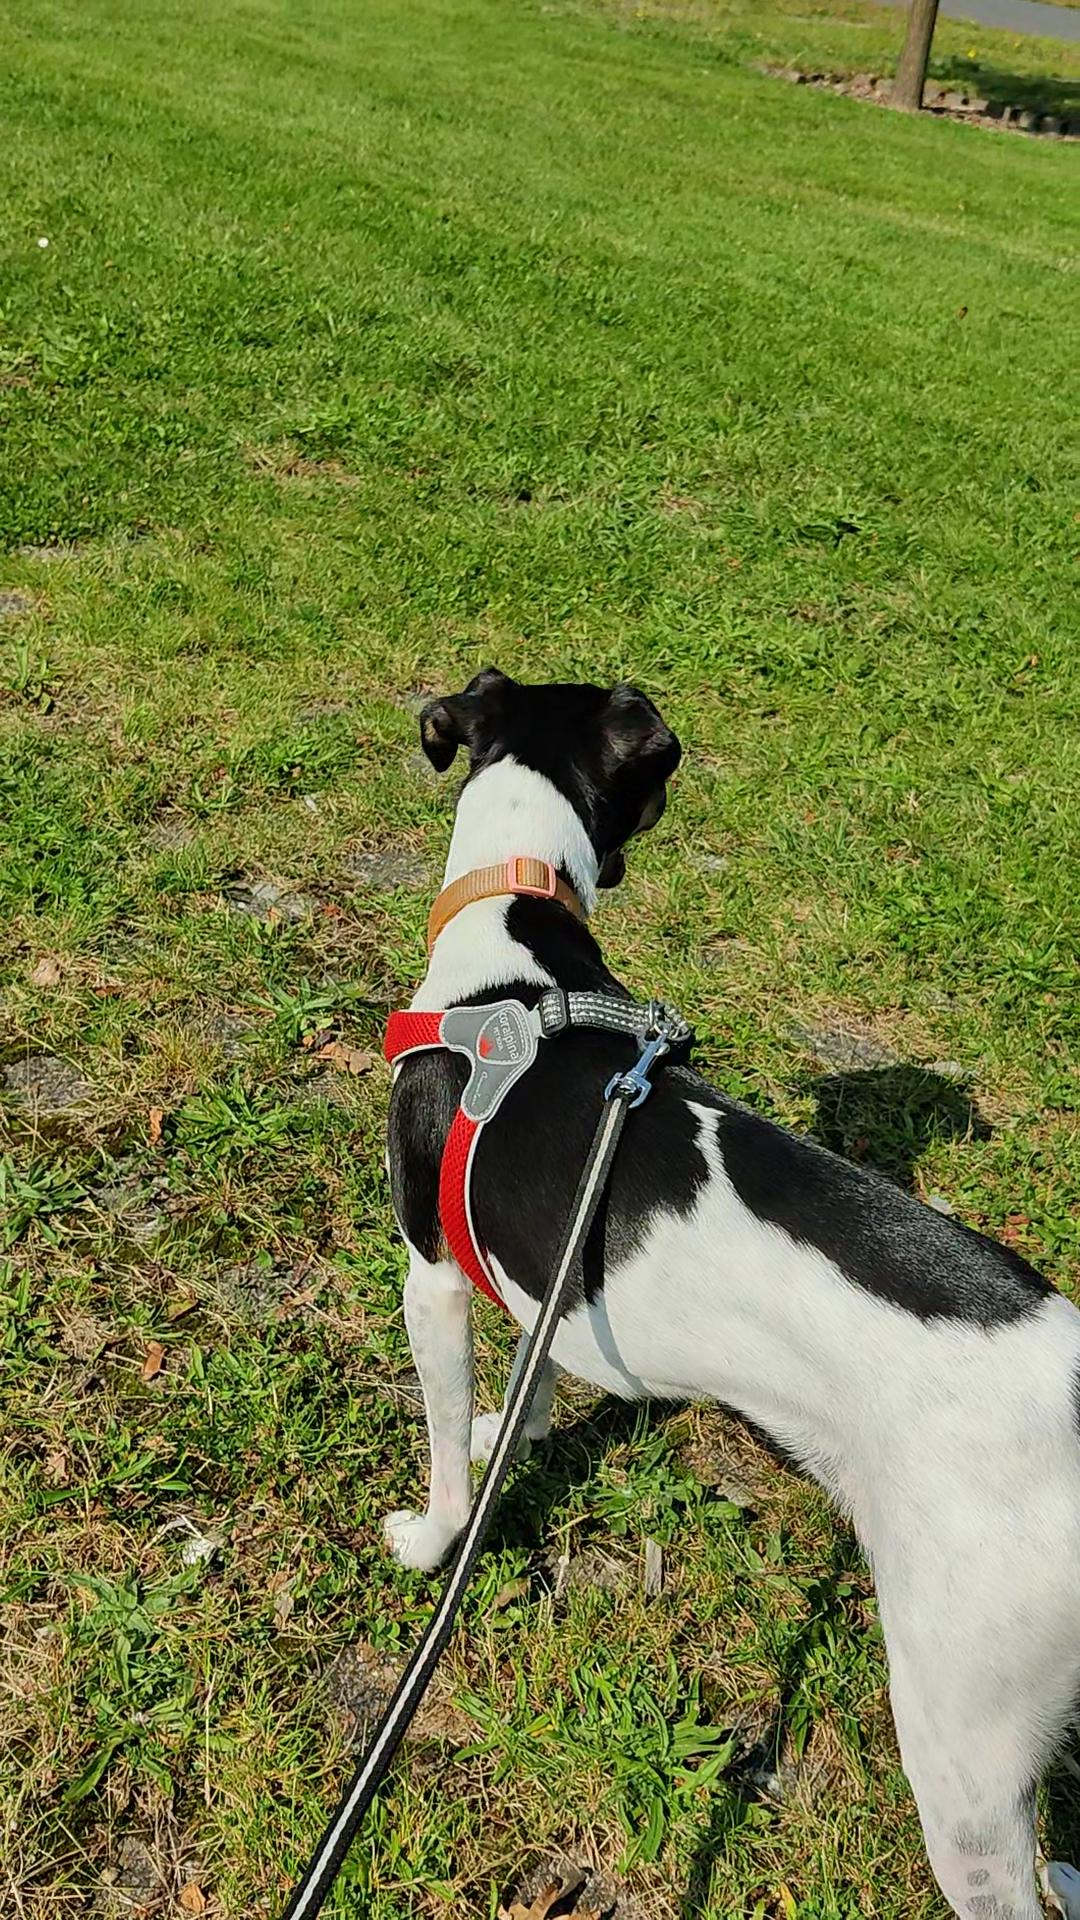Dog: (361, 651, 1079, 1919)
